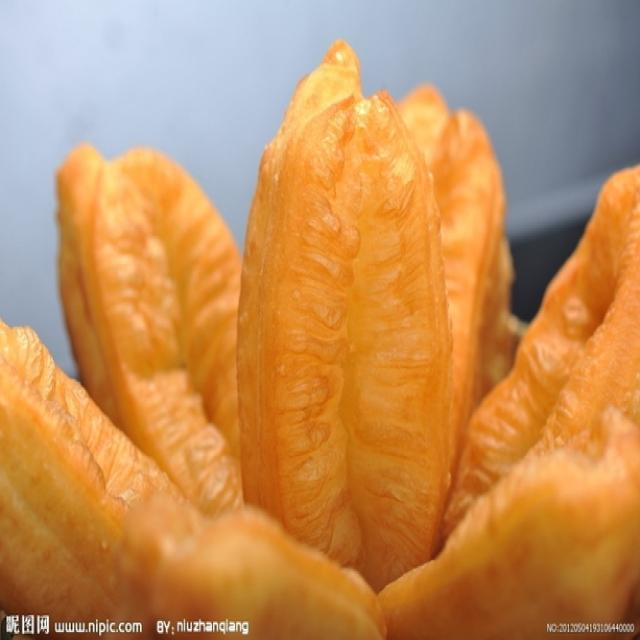炸货点心: (11, 44, 632, 615)
